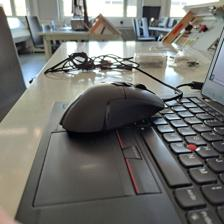mouse: (58, 80, 165, 136)
